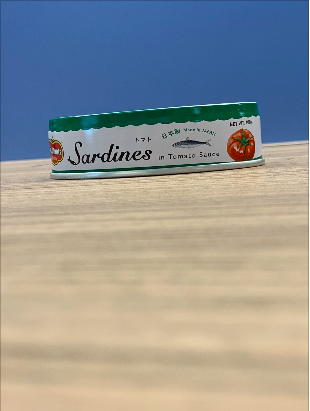Sardines_100-199g: (61, 113, 258, 166)
